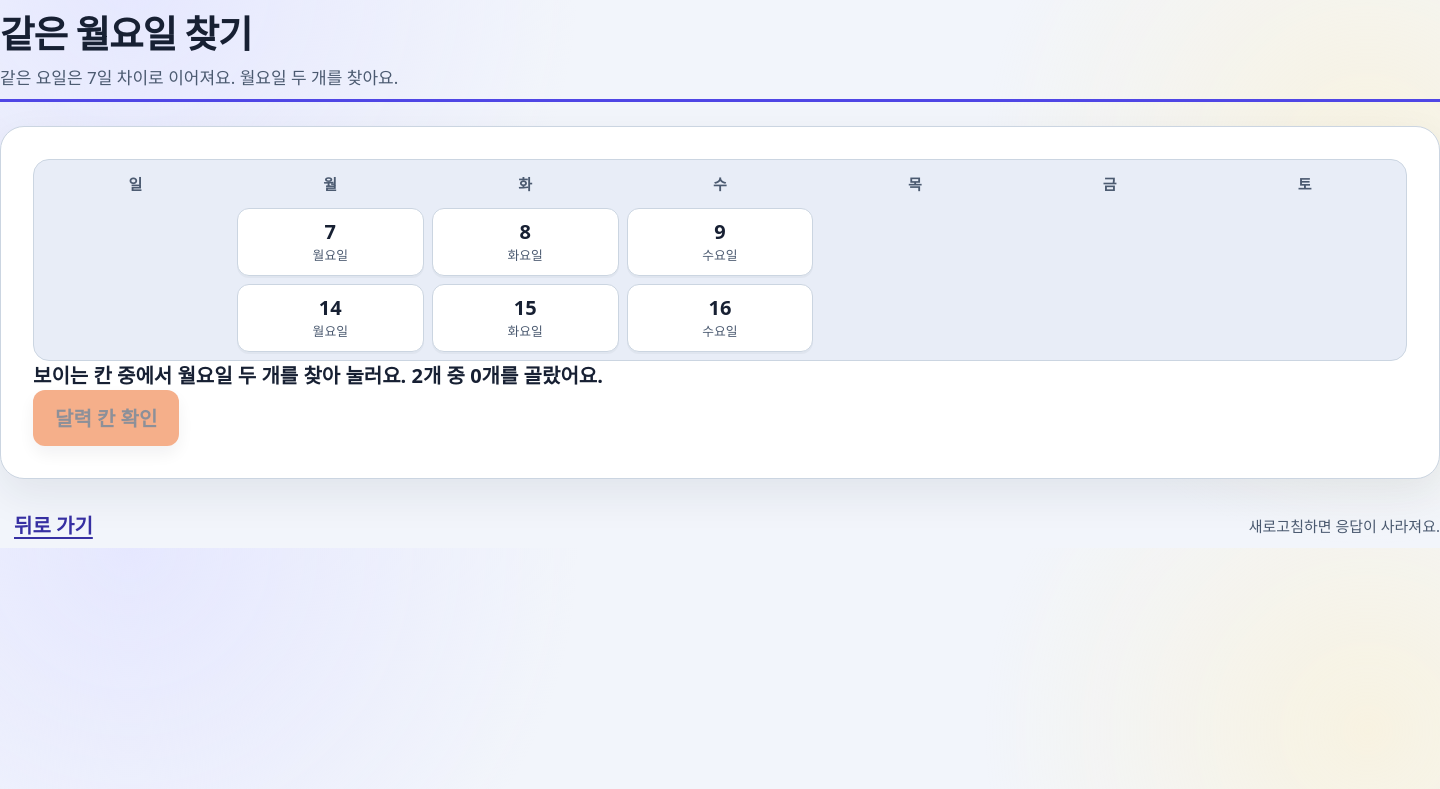
it: 달력 칸 선택 단계 (calendar-week-02) › 두 개의 월요일을 선택해 확인한다
Click the button with aria-label "2026년 9월 7일 월요일" at (330, 242), box [237,208,424,276]
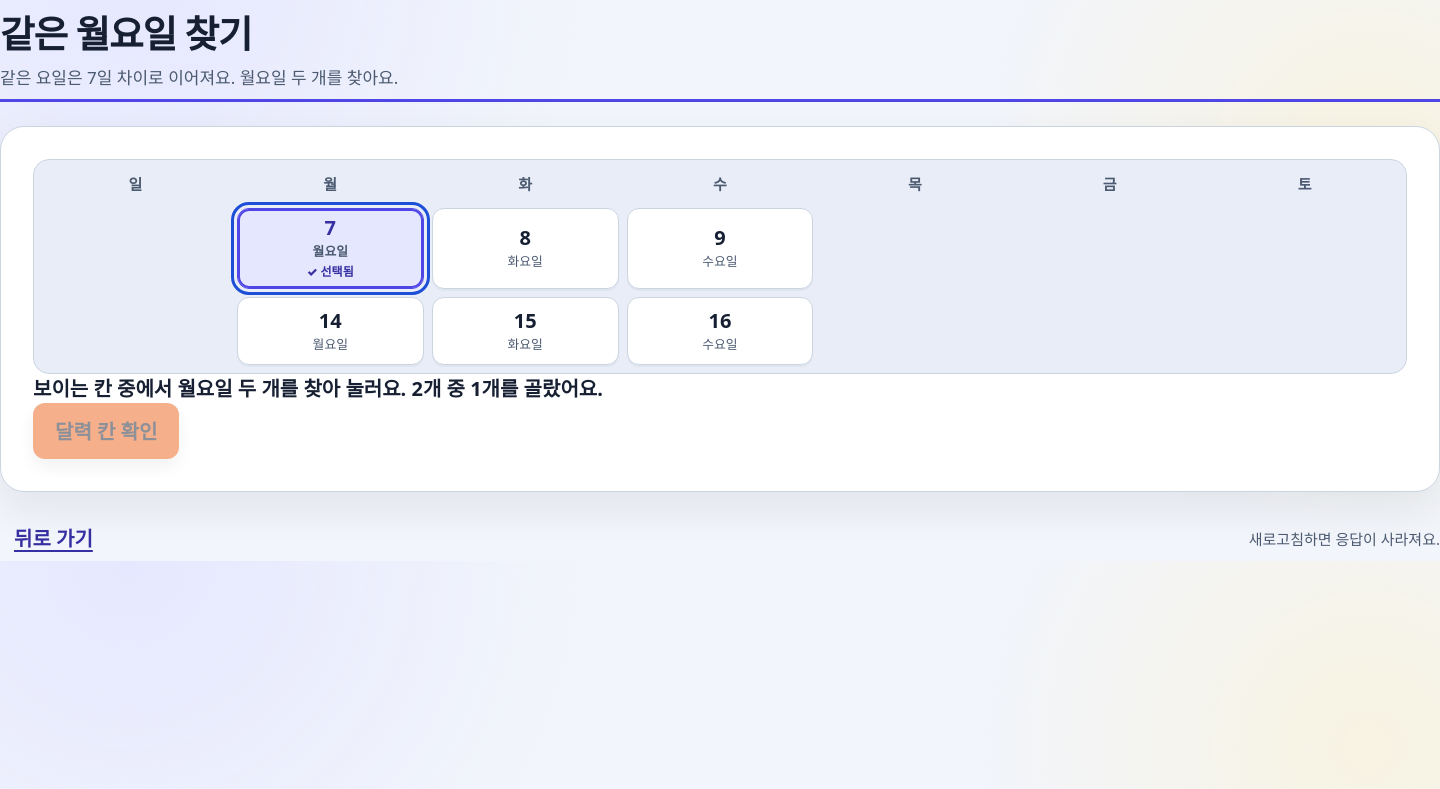
Click the button with aria-label "2026년 9월 14일 월요일" at (330, 331), box [237,297,424,365]
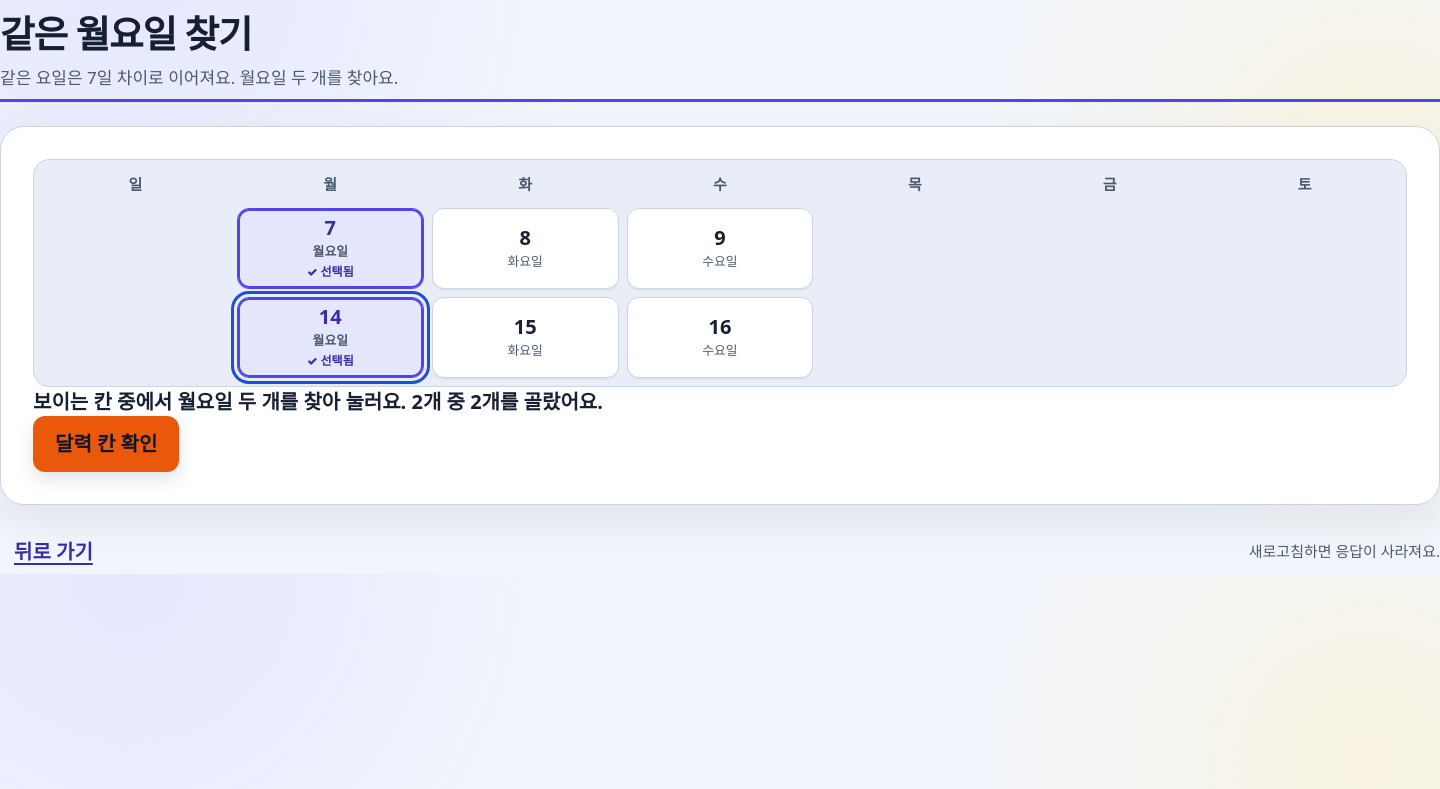
Click the button "달력 칸 확인" at (106, 444), box [33,416,179,472]
(page scrolled)
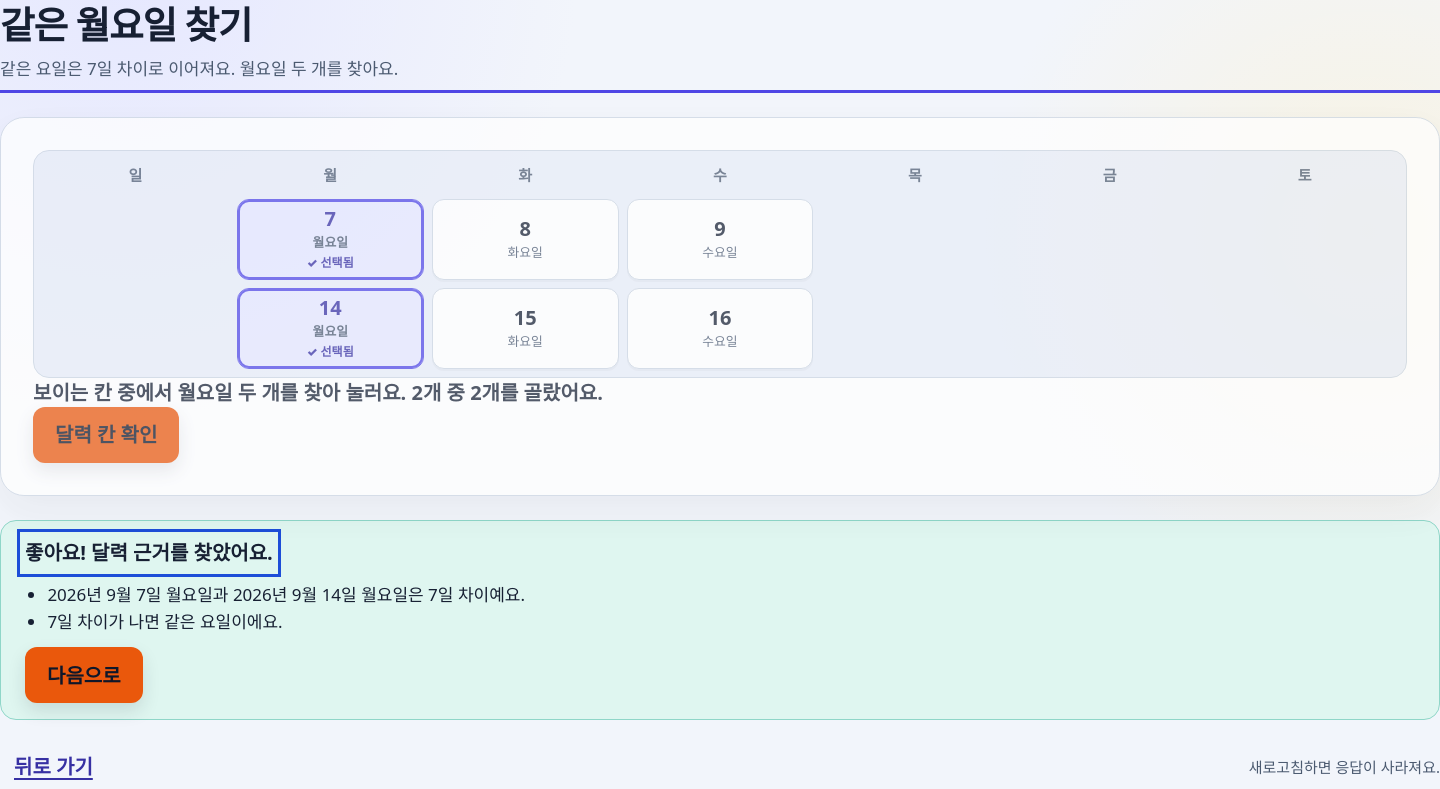
Expected: the heading "좋아요! 달력 근거를 찾았어요." is shown, [25,537,273,569]
Expected: the message shows "7일", [47,583,525,606]
